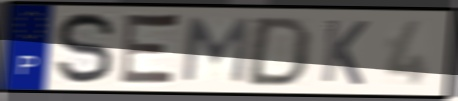4: (382, 17, 433, 90)
D: (242, 14, 315, 88)
E: (116, 9, 184, 89)
K: (318, 17, 371, 88)
M: (178, 16, 253, 86)
S: (54, 10, 118, 87)
